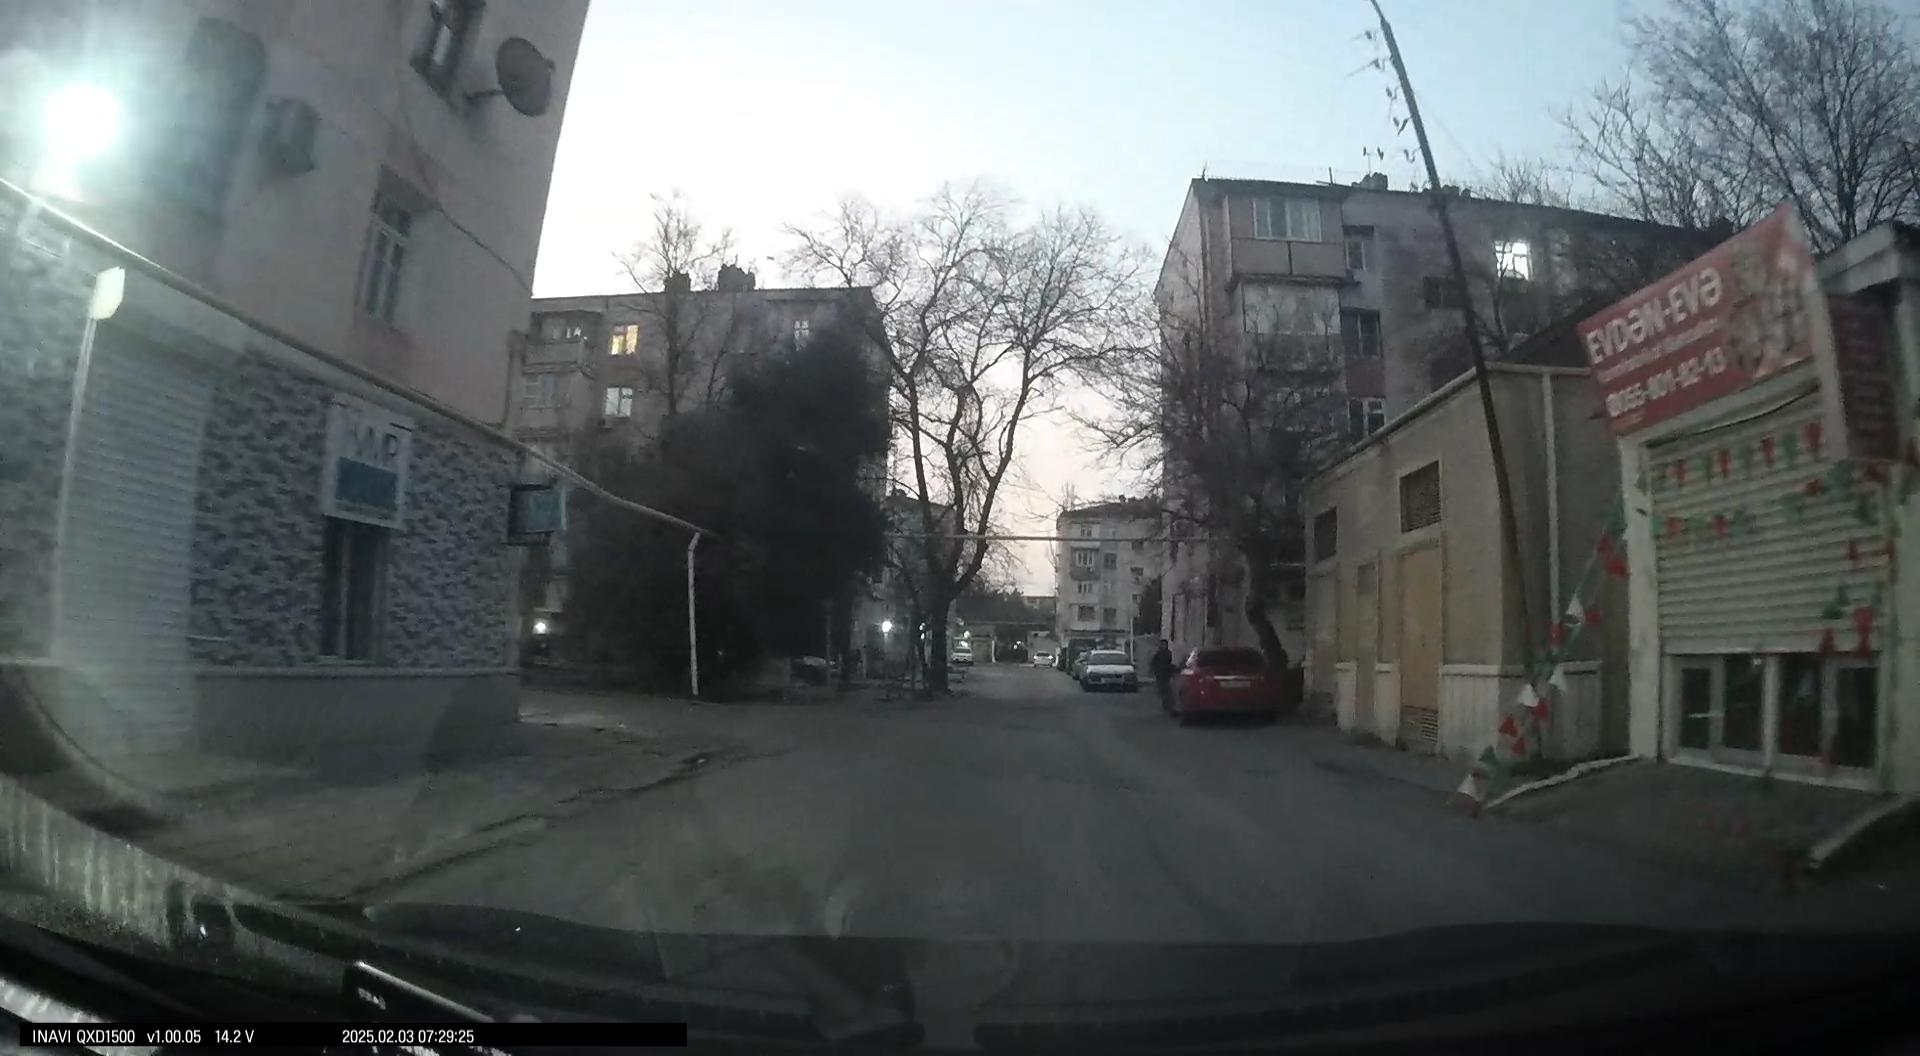banner: (1589, 209, 1839, 424)
